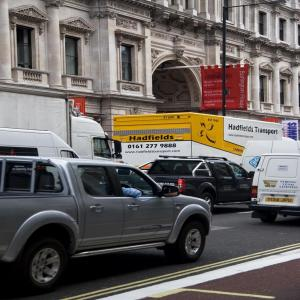Vehicle-registration-plate: (266, 198, 295, 203)
